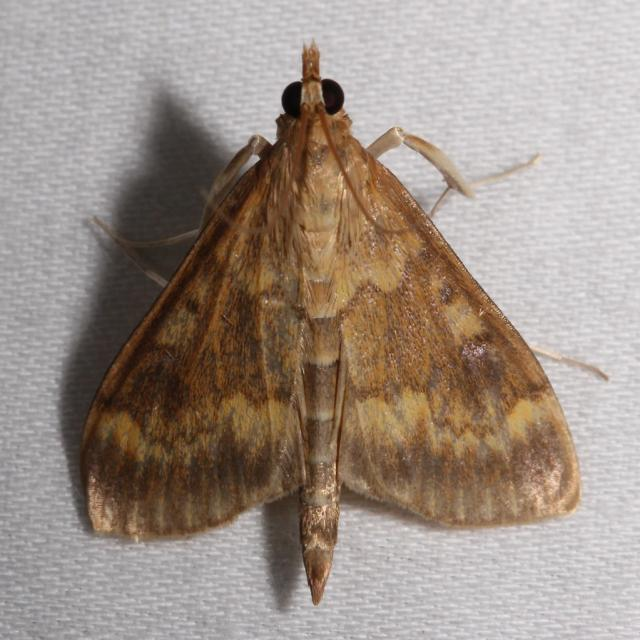cornborer-Adult-: (80, 33, 588, 593)
